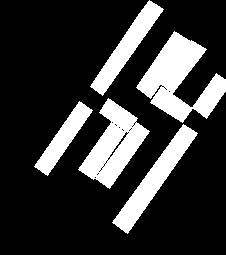parkingspot: (112, 124, 197, 233), (90, 0, 163, 95), (34, 101, 92, 175), (136, 31, 190, 98), (95, 122, 149, 188), (78, 122, 125, 179), (160, 40, 206, 93), (192, 73, 226, 118), (150, 86, 192, 122), (99, 98, 137, 132)
